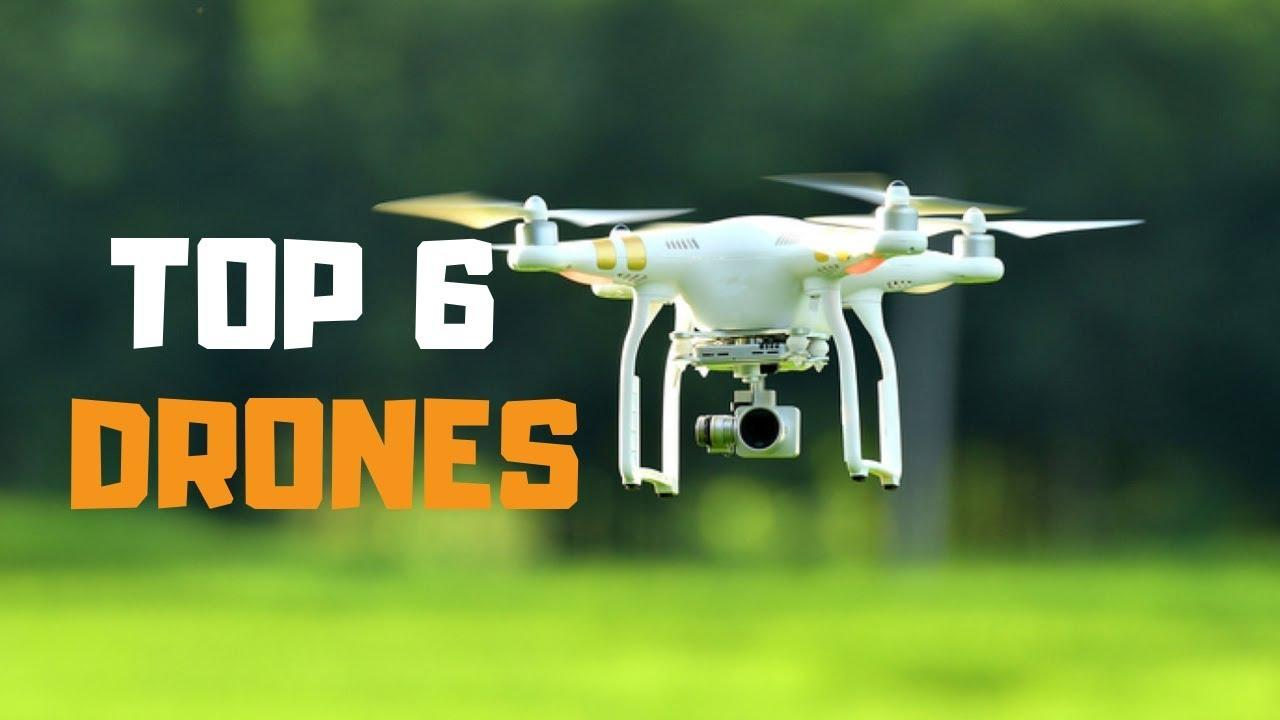Drone: (370, 153, 1150, 508)
